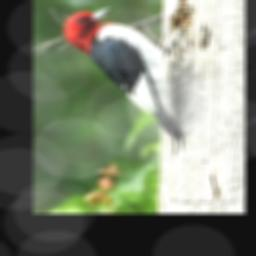Woodpecker: (63, 6, 183, 152)
